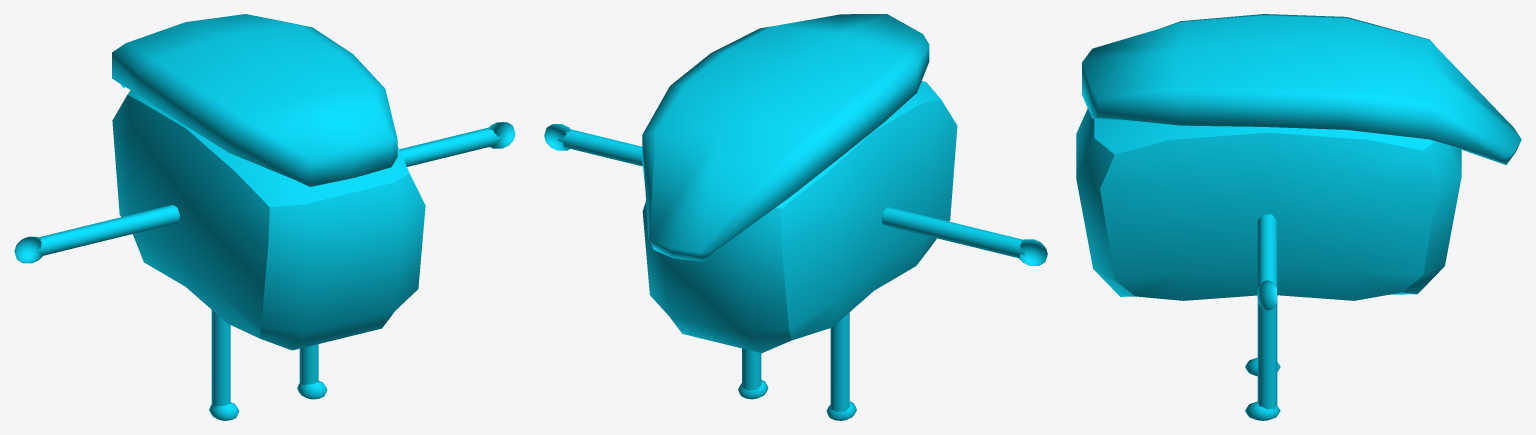
File: Mesh_Sushi_02.FBX
3 renders of one model, left to right at view 1: azimuth 30°, elevation 25°; view 2: azimuth 150°, elevation 25°; view 3: azimuth 270°, elevation 25°, orthographic. The views are drawn at different scales.
Parts seen in each view (by area): view 1: BodyRiz002; view 2: BodyRiz002; view 3: BodyRiz002.
Boxes of the visible parts, x1,y1,x2,y2 form: BodyRiz002: (14, 14, 515, 420); BodyRiz002: (544, 14, 1047, 420); BodyRiz002: (1076, 14, 1521, 420).
Size of the model in its own units: 50.38 by 33.08 by 38.05.
